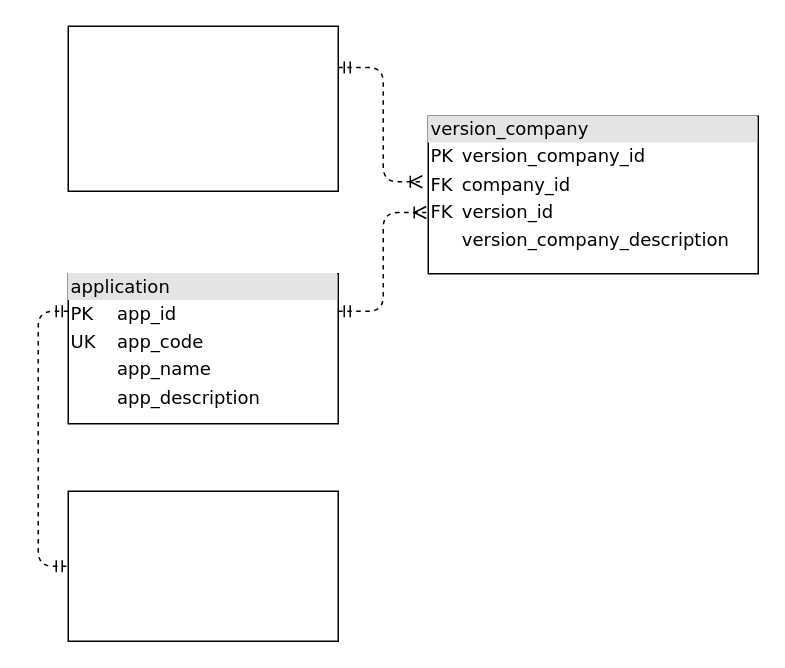
Image size: 785x668. Some labels were removed from this diagram. Here are the shapes that lost their labels. From the top down, the centre of each, then its label:
At (202,108): "company PK id_company UK codigo_company name_company description_company".
At (202,565): "version PK version_id FK app_id version version_description".
